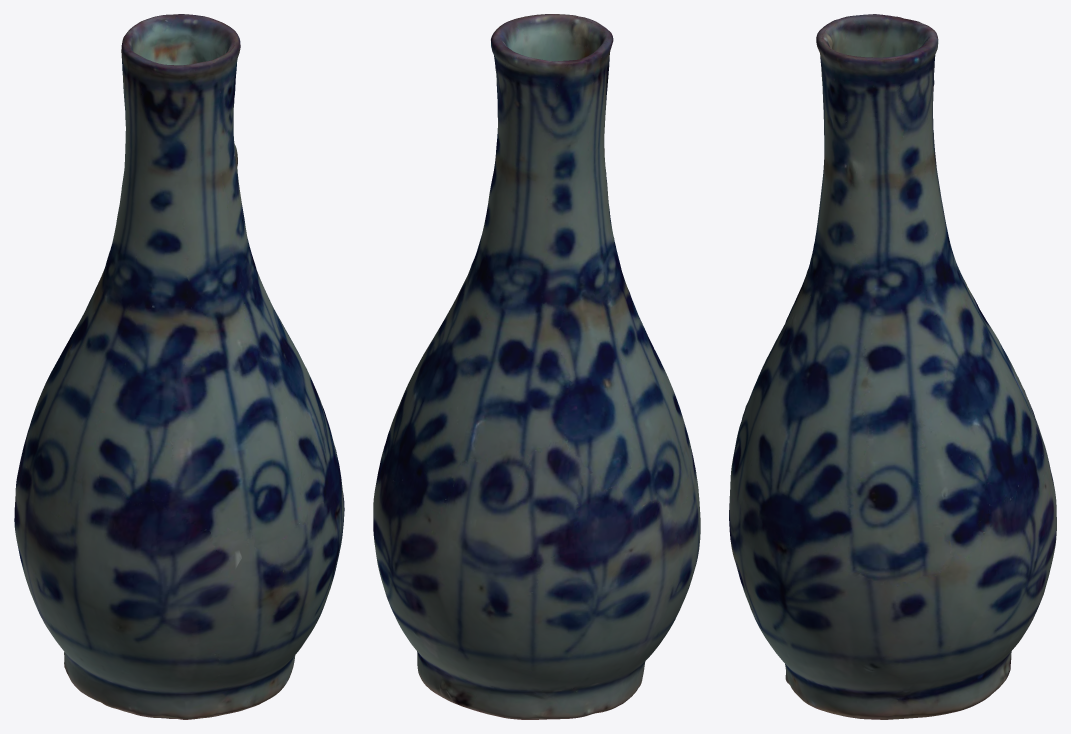
Rendered from florero_llorente.lod1.glb.
3 views of the same model, side by side, from view 1: azimuth 30°, elevation 25°; view 2: azimuth 150°, elevation 25°; view 3: azimuth 270°, elevation 25° (orthographic).
Parts seen in each view (by area): view 1: Object_2; view 2: Object_2; view 3: Object_2.
Boxes of the visible parts, box(x1,y1,x2,y2) form: Object_2: box(14, 14, 344, 719); Object_2: box(373, 14, 700, 719); Object_2: box(729, 14, 1056, 719).
Size of the model in its own units: 76.05 by 165 by 76.17.
Materials: 1 (1 with a texture image).
